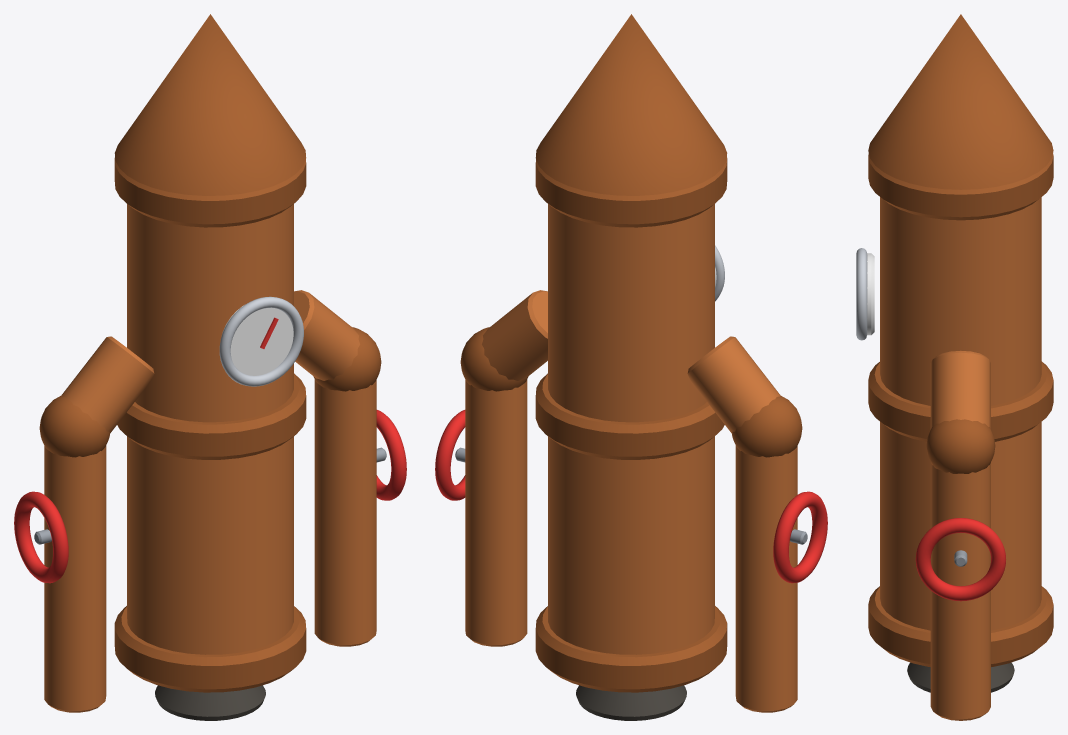
The model's file is Rocket_09_PlumberPipes.fbx.
3 renders of one model, left to right at view 1: azimuth 30°, elevation 25°; view 2: azimuth 150°, elevation 25°; view 3: azimuth 270°, elevation 25°, orthographic. The views are drawn at different scales.
Visible parts, largest first — view 1: R09_Body, R09_Nose, R09_SidePipe, R09_SidePipe_2, R09_Coupler, R09_Coupler_2, R09_Coupler_3, R09_Elbow_2, R09_Elbow, R09_Gauge, R09_Joint_2, R09_Valve_2 (+4 smaller); view 2: R09_Body, R09_Nose, R09_SidePipe, R09_SidePipe_2, R09_Coupler, R09_Coupler_2, R09_Coupler_3, R09_Elbow_2, R09_Elbow, R09_Joint_2, R09_Valve_2, R09_Nozzle (+2 smaller); view 3: R09_Body, R09_Nose, R09_SidePipe, R09_Coupler_3, R09_Coupler, R09_Coupler_2, R09_Elbow, R09_Valve, R09_Joint, R09_GaugeRim, R09_Nozzle, R09_Gauge.
Part boxes in pixels (left/top/right/bottom): R09_Body: left=127, top=204, right=293, bottom=654; R09_Nose: left=114, top=14, right=306, bottom=195; R09_SidePipe: left=314, top=379, right=376, bottom=646; R09_SidePipe_2: left=44, top=445, right=106, bottom=712; R09_Coupler: left=114, top=606, right=306, bottom=692; R09_Coupler_2: left=117, top=373, right=306, bottom=459; R09_Coupler_3: left=114, top=158, right=306, bottom=227; R09_Elbow_2: left=62, top=336, right=154, bottom=433; R09_Elbow: left=294, top=290, right=359, bottom=380; R09_Gauge: left=220, top=305, right=293, bottom=375; R09_Joint_2: left=39, top=395, right=109, bottom=457; R09_Valve_2: left=14, top=491, right=68, bottom=583; R09_Body: left=548, top=204, right=714, bottom=654; R09_Nose: left=535, top=14, right=727, bottom=195; R09_SidePipe: left=465, top=379, right=527, bottom=646; R09_SidePipe_2: left=735, top=445, right=797, bottom=712; R09_Coupler: left=535, top=606, right=727, bottom=692; R09_Coupler_2: left=535, top=373, right=724, bottom=459; R09_Coupler_3: left=535, top=158, right=727, bottom=227; R09_Elbow_2: left=687, top=336, right=779, bottom=433; R09_Elbow: left=482, top=290, right=547, bottom=380; R09_Joint_2: left=732, top=395, right=802, bottom=457; R09_Valve_2: left=773, top=491, right=827, bottom=583; R09_Nozzle: left=576, top=685, right=686, bottom=720; R09_Body: left=880, top=197, right=1041, bottom=630; R09_Nose: left=868, top=14, right=1053, bottom=189; R09_SidePipe: left=930, top=462, right=990, bottom=720; R09_Coupler_3: left=868, top=153, right=1053, bottom=220; R09_Coupler: left=868, top=586, right=1053, bottom=666; R09_Coupler_2: left=868, top=361, right=1053, bottom=441; R09_Elbow: left=930, top=350, right=990, bottom=429; R09_Valve: left=915, top=518, right=1005, bottom=601; R09_Joint: left=926, top=419, right=995, bottom=473; R09_GaugeRim: left=856, top=248, right=867, bottom=340; R09_Nozzle: left=907, top=662, right=1014, bottom=692; R09_Gauge: left=867, top=253, right=874, bottom=335.
Size of the model in its own units: 3.64 by 6.77 by 1.83.
